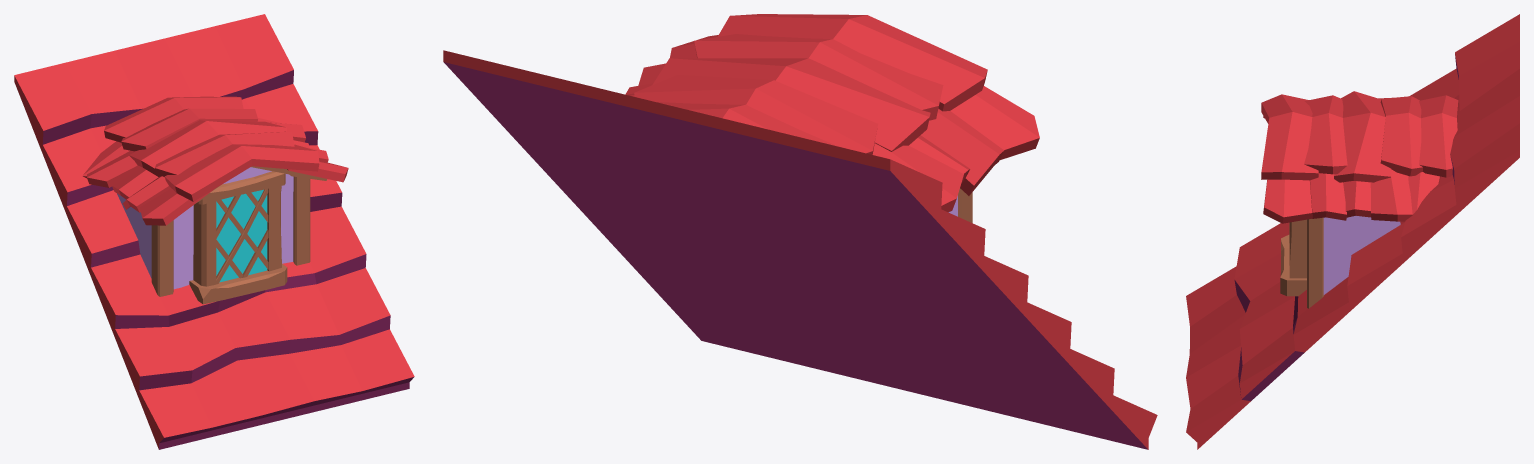
Rendered from Roof 01 Window 02.fbx.
The picture shows the model from 3 angles, left to right: view 1: azimuth 30°, elevation 25°; view 2: azimuth 150°, elevation 25°; view 3: azimuth 270°, elevation 25°; orthographic projection. The views are drawn at different scales.
Visible parts, largest first — view 1: Roof 01 Window 02; view 2: Roof 01 Window 02; view 3: Roof 01 Window 02.
Boxes of the visible parts, x1=… form: Roof 01 Window 02: x1=14, y1=14, x2=414, y2=449; Roof 01 Window 02: x1=443, y1=14, x2=1157, y2=449; Roof 01 Window 02: x1=1186, y1=14, x2=1519, y2=449.
Size of the model in its own units: 400 by 410 by 414.
